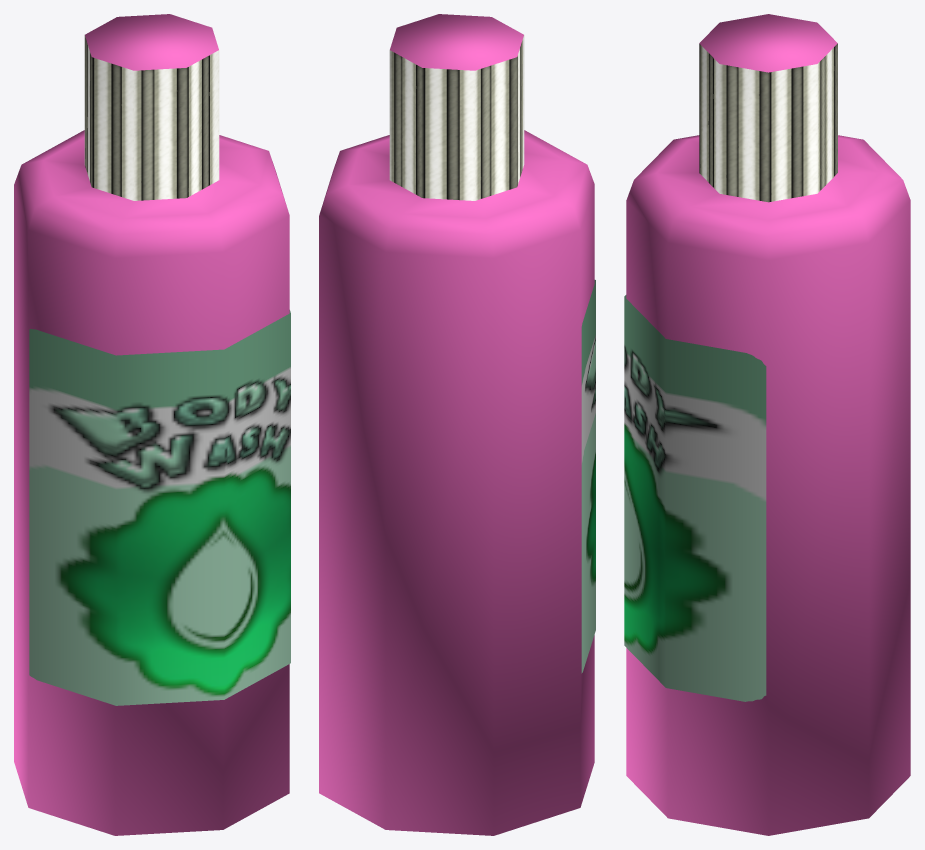
The model's file is BodyWash_2.FBX.
3 views of the same model, side by side, from view 1: azimuth 30°, elevation 25°; view 2: azimuth 150°, elevation 25°; view 3: azimuth 270°, elevation 25° (orthographic).
Parts seen in each view (by area): view 1: Bottle; view 2: Bottle; view 3: Bottle.
Boxes of the visible parts, bbox=[...] form: Bottle: bbox=[14, 14, 290, 835]; Bottle: bbox=[319, 14, 595, 835]; Bottle: bbox=[624, 14, 910, 835].
Bounding box in the file's own units: 16.86 × 47.93 × 16.98.
